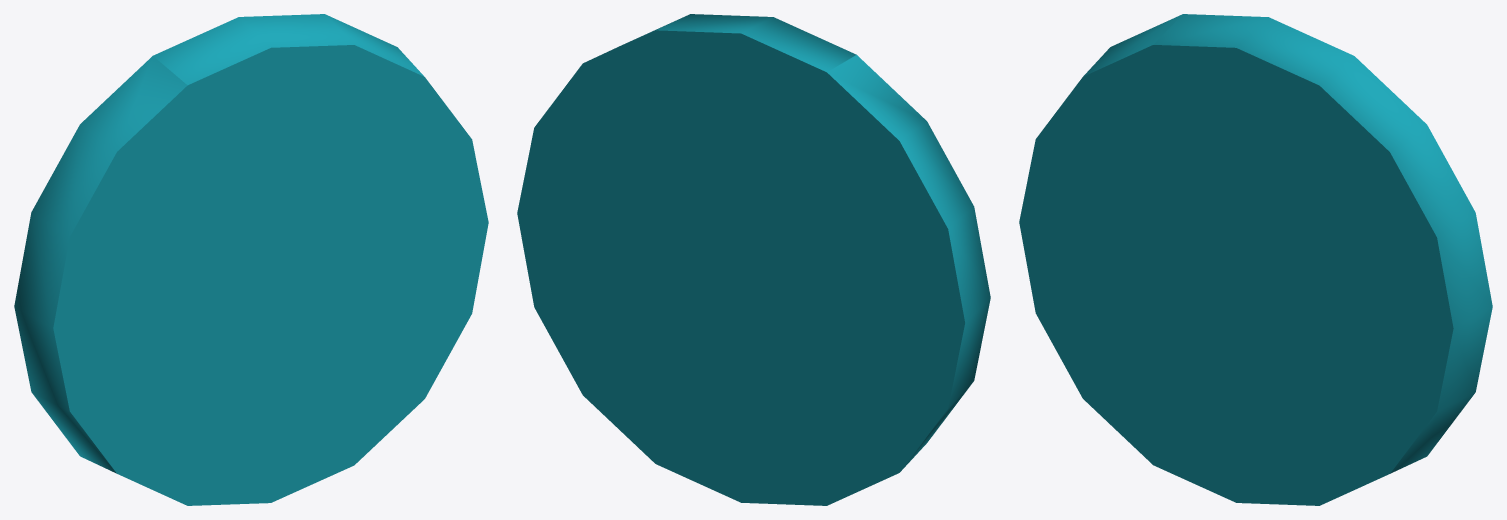
Rendered from Flipper_Button.fbx.
The picture shows the model from 3 angles, left to right: view 1: azimuth 30°, elevation 25°; view 2: azimuth 150°, elevation 25°; view 3: azimuth 330°, elevation 25°; orthographic projection.
Visible parts, largest first — view 1: Flipper_Button; view 2: Flipper_Button; view 3: Flipper_Button.
Part boxes in pixels (box(x1,y1,x2,y2)): Flipper_Button: box(14, 14, 488, 505); Flipper_Button: box(517, 14, 990, 505); Flipper_Button: box(1019, 14, 1492, 505).
Bounding box in the file's own units: 2.24 × 2.24 × 0.2839.
